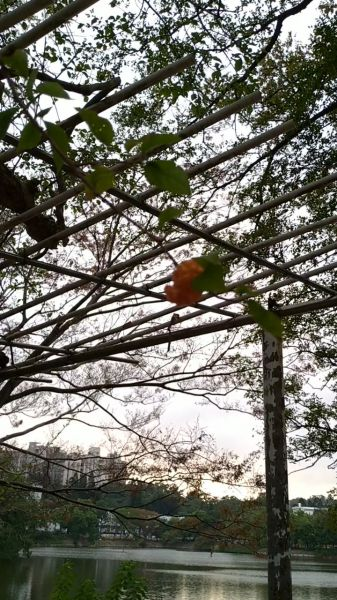eggs: (161, 253, 212, 314)
